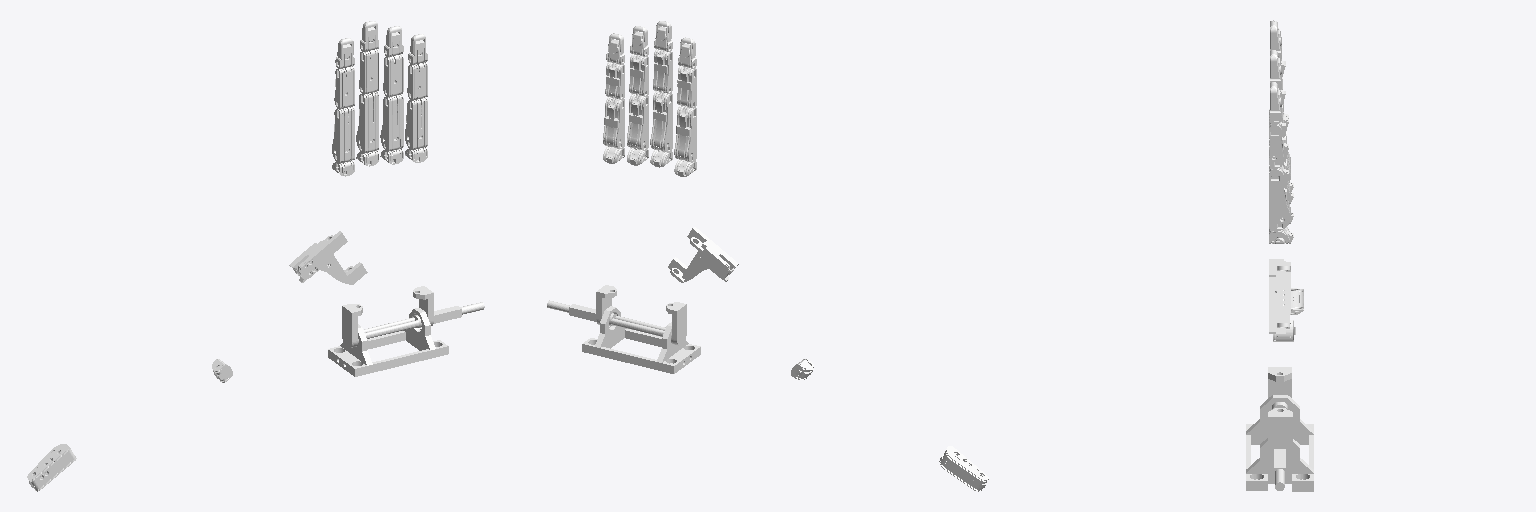
--- Render facts (derived) ---
Views: 3 orthographic renders of the robot side by side, from view 1: azimuth 30°, elevation 25°; view 2: azimuth 150°, elevation 25°; view 3: azimuth 270°, elevation 25°.
Model converted_robot with 97 links and 96 joints (37 revolute, 59 fixed), rooted at root, posed every joint at zero.
Visible links, largest first — view 1: wrist_1, wrist_2, thumb_base, middle_pp, ring_pp, thumb_mp, index_pp, pinky_pp, middle_mp, ring_mp, index_mp, pinky_mp; view 2: wrist_1, wrist_2, thumb_base, middle_pp, index_pp, thumb_mp, ring_pp, pinky_pp, middle_mp, index_mp, ring_mp, pinky_mp; view 3: wrist_1, wrist_2, thumb_base, pinky_pp, pinky_mp.
Boxes of the visible links, <box> form: wrist_1: <box>328,308,448,376</box>; wrist_2: <box>342,286,484,347</box>; thumb_base: <box>289,231,367,284</box>; middle_pp: <box>356,91,378,153</box>; ring_pp: <box>380,94,403,151</box>; thumb_mp: <box>27,444,76,491</box>; index_pp: <box>332,106,354,163</box>; pinky_pp: <box>405,97,427,149</box>; middle_mp: <box>359,49,378,94</box>; ring_mp: <box>383,54,403,97</box>; index_mp: <box>334,66,354,109</box>; pinky_mp: <box>407,62,427,100</box>; wrist_1: <box>582,306,700,373</box>; wrist_2: <box>547,285,686,345</box>; thumb_base: <box>668,227,738,282</box>; middle_pp: <box>650,91,672,152</box>; index_pp: <box>674,105,696,162</box>; thumb_mp: <box>939,446,988,491</box>; ring_pp: <box>627,94,648,150</box>; pinky_pp: <box>603,97,624,148</box>; middle_mp: <box>653,49,672,93</box>; index_mp: <box>677,66,696,108</box>; ring_mp: <box>629,54,648,96</box>; pinky_mp: <box>605,62,624,99</box>; wrist_1: <box>1246,395,1313,491</box>; wrist_2: <box>1268,367,1292,490</box>; thumb_base: <box>1269,259,1290,333</box>; pinky_pp: <box>1269,165,1290,230</box>; pinky_mp: <box>1269,121,1285,168</box>.
Bounding box of the posed robot: 0.3997 × 0.042 × 0.3333 m (x, y, z).
Meshes: 24 distinct files referenced, 22 mesh visuals loaded (22 binary STL); not drawn: 2 (reference not matched to a file when rendering).

The robot description file, URDF, robot "converted_robot":
<?xml version="1.0" ?>
<robot name="converted_robot">
   <link name="root">
      <inertial>
         <origin xyz="0.0 0.0 0.0" rpy="0.0 0.0 0.0"/>
         <mass value="0.0"/>
         <inertia ixx="0.0" iyy="0.0" izz="0.0" ixy="0" ixz="0" iyz="0"/>
      </inertial>
   </link>
   <link name="tower">
      <inertial>
         <origin xyz="-0.012935936040143856 -0.1250798428773428 -0.0001711974765966958" rpy="1.5378790315260968 -1.5027760115029016 -2.9935622097884105"/>
         <mass value="0.791434072813212"/>
         <inertia ixx="0.0014927212233772481" iyy="0.0014084035095714637" izz="0.0005242023751306965" ixy="0" ixz="0" iyz="0"/>
      </inertial>
      <visual name="tower">
         <origin xyz="-0.012935936040143856 -0.1250798428773428 -0.0001711974765966958" rpy="1.5378790315260975 -1.5027760115029016 -2.9935622097884114"/>
         <geometry>
            <mesh filename="package://viz/models/URDF_Simulation/converted_tower.stl"/>
         </geometry>
         <material name="white"/>
      </visual>
   </link>
   <link name="root2tower_fixed_jointbody">
      <inertial>
         <origin xyz="0.0 0.0 0.0" rpy="0.0 0.0 0.0"/>
         <mass value="0.001"/>
         <inertia ixx="1e-09" iyy="1e-09" izz="1e-09" ixy="0" ixz="0" iyz="0"/>
      </inertial>
   </link>
   <joint type="fixed" name="root2tower_fixed">
      <parent link="root"/>
      <child link="root2tower_fixed_jointbody"/>
      <origin xyz="-0.0132 0.0 0.017" rpy="1.5715926535897906 2.113124342173478e-09 3.1415900000008414"/>
   </joint>
   <joint type="fixed" name="root2tower_fixed_offset">
      <parent link="root2tower_fixed_jointbody"/>
      <child link="tower"/>
      <origin xyz="-0.0 -0.0 -0.0" rpy="0.0 0.0 0.0"/>
   </joint>
   <link name="wrist_1">
      <inertial>
         <origin xyz="-0.014332709818484647 -0.06084959605214876 0.00010921642133937277" rpy="1.5708004130834685 1.528474215972686e-05 1.5650097032208263"/>
         <mass value="0.058899626515319804"/>
         <inertia ixx="3.753569655681751e-05" iyy="3.3836482834552355e-05" izz="9.284974380360733e-06" ixy="0" ixz="0" iyz="0"/>
      </inertial>
      <visual name="wrist_3">
         <origin xyz="-0.014332709818484647 -0.06084959605214876 0.00010921642133937277" rpy="1.5708004130834687 1.5284742159948905e-05 1.5650097032208266"/>
         <geometry>
            <mesh filename="package://viz/models/URDF_Simulation/converted_wrist_3.stl"/>
         </geometry>
         <material name="white"/>
      </visual>
   </link>
   <link name="tower2wrist_1_fixed_jointbody">
      <inertial>
         <origin xyz="0.0 0.0 0.0" rpy="0.0 0.0 0.0"/>
         <mass value="0.001"/>
         <inertia ixx="1e-09" iyy="1e-09" izz="1e-09" ixy="0" ixz="0" iyz="0"/>
      </inertial>
   </link>
   <joint type="fixed" name="tower2wrist_1_fixed">
      <parent link="tower"/>
      <child link="tower2wrist_1_fixed_jointbody"/>
      <origin xyz="0.0 0.0 0.0" rpy="0.0 0.0 0.0"/>
   </joint>
   <joint type="fixed" name="tower2wrist_1_fixed_offset">
      <parent link="tower2wrist_1_fixed_jointbody"/>
      <child link="wrist_1"/>
      <origin xyz="-0.0 -0.0 -0.0" rpy="0.0 0.0 0.0"/>
   </joint>
   <link name="wrist_2">
      <inertial>
         <origin xyz="-0.011749586365455653 -0.03917818231353612 0.00011052945291615456" rpy="-1.8092865401767204 -1.5661853121132732 -1.2638218544209279"/>
         <mass value="0.020757970653264464"/>
         <inertia ixx="2.3183204340638643e-05" iyy="2.2130131511678158e-05" izz="1.4714793045715701e-06" ixy="0" ixz="0" iyz="0"/>
      </inertial>
      <visual name="wrist_1">
         <origin xyz="-0.04685505325225877 -0.034649420343556225 0.0002783448473589519" rpy="1.5707963267948966 0.0 2.987432783863472"/>
         <geometry>
            <mesh filename="package://viz/models/URDF_Simulation/converted_wrist_1.stl"/>
         </geometry>
         <material name="white"/>
      </visual>
      <visual name="wrist_2">
         <origin xyz="-0.004873884468205962 -0.04006517855744275 7.766139194779857e-05" rpy="1.3548527125878218 -1.5707870578414207 1.9119197405906991"/>
         <geometry>
            <mesh filename="package://viz/models/URDF_Simulation/converted_wrist_2.stl"/>
         </geometry>
         <material name="white"/>
      </visual>
   </link>
   <link name="wrist_jointbody">
      <inertial>
         <origin xyz="0.0 0.0 0.0" rpy="0.0 0.0 0.0"/>
         <mass value="0.001"/>
         <inertia ixx="1e-09" iyy="1e-09" izz="1e-09" ixy="0" ixz="0" iyz="0"/>
      </inertial>
   </link>
   <joint type="revolute" name="wrist">
      <parent link="wrist_1"/>
      <child link="wrist_jointbody"/>
      <origin xyz="0.0 -0.0463 0.0" rpy="0.0 0.0 0.0"/>
      <axis xyz="1.0 0.0 0.0"/>
      <limit lower="-2.27" upper="2.27" effort="100" velocity="100"/>
   </joint>
   <joint type="fixed" name="wrist_offset">
      <parent link="wrist_jointbody"/>
      <child link="wrist_2"/>
      <origin xyz="-0.0 0.0463 -0.0" rpy="0.0 0.0 0.0"/>
   </joint>
   <link name="palm">
      <inertial>
         <origin xyz="-0.009750183589572366 0.04021403488529142 -0.00039237105510929893" rpy="2.3172560848423656 -1.562874237700241 2.192255222809746"/>
         <mass value="0.16567872925570942"/>
         <inertia ixx="0.0002358825828115673" iyy="0.00017096319828277548" izz="6.854952483029862e-05" ixy="0" ixz="0" iyz="0"/>
      </inertial>
      <visual name="palm_tower">
         <origin xyz="-0.009750183589572366 0.04021403488529142 -0.00039237105510929893" rpy="2.3172560848423656 -1.562874237700241 2.192255222809746"/>
         <geometry>
            <mesh filename="package://viz/models/URDF_Simulation/converted_palm_tower.stl"/>
         </geometry>
         <material name="white"/>
      </visual>
   </link>
   <link name="wrist_22palm_fixed_jointbody">
      <inertial>
         <origin xyz="0.0 0.0 0.0" rpy="0.0 0.0 0.0"/>
         <mass value="0.001"/>
         <inertia ixx="1e-09" iyy="1e-09" izz="1e-09" ixy="0" ixz="0" iyz="0"/>
      </inertial>
   </link>
   <joint type="fixed" name="wrist_22palm_fixed">
      <parent link="wrist_2"/>
      <child link="wrist_22palm_fixed_jointbody"/>
      <origin xyz="0.0 0.0 0.0" rpy="0.0 0.0 0.0"/>
   </joint>
   <joint type="fixed" name="wrist_22palm_fixed_offset">
      <parent link="wrist_22palm_fixed_jointbody"/>
      <child link="palm"/>
      <origin xyz="-0.0 -0.0 -0.0" rpy="0.0 0.0 0.0"/>
   </joint>
   <!-- THUMB START -->
   <link name="thumb_base">
      <inertial>
         <origin xyz="-0.05388722858794558 -0.08972924545530461 0.0056400640968846715" rpy="1.1981321937913696 -1.4948979105066995 0.7661853183228415"/>
         <mass value="0.015400950262490496"/>
         <inertia ixx="4.057013831282678e-06" iyy="3.3189900464939896e-06" izz="1.0886313012479005e-06" ixy="0" ixz="0" iyz="0"/>
      </inertial>
      <visual name="thumb_base">
         <!-- <origin xyz="-0.05388722858794558 -0.08972924545530461 0.0056400640968846715" rpy="1.1981321937913676 -1.4948979105066995 0.7661853183228435"/> -->
         <origin xyz="0.01388722858794558 -0.02372924545530461 -0.0026400640968846715" rpy="1.1981321937913676 -1.4948979105066995 0.7661853183228435"/>
         <geometry>
            <mesh filename="package://viz/models/URDF_Simulation/converted_thumb_base.stl"/>
         </geometry>
         <material name="white"/>
      </visual>
   </link>
   <link name="root2thumb_base_jointbody">
      <inertial>
         <origin xyz="0.0 0.0 0.0" rpy="0.0 0.0 0.0"/>
         <mass value="0.001"/>
         <inertia ixx="1e-09" iyy="1e-09" izz="1e-09" ixy="0" ixz="0" iyz="0"/>
      </inertial>
   </link>
   <!-- THUMB -->
   <joint type="revolute" name="root2thumb_base">
      <parent link="palm"/>
      <child link="root2thumb_base_jointbody"/>
      <!-- <origin xyz="0.01810025051214078 0.00810024353395844 0.002000000000000001" rpy="0.0 0.0 1.5707999999999998"/> -->
      <origin xyz="0.01810025051214078 0.00810024353395844 0.002000000000000001" rpy="0.0 0.0 1.5707999999999998"/>
      <axis xyz="-0.872045190552692 0.48942536267945813 0.0"/>
      <limit lower="0.0" upper="2.27" effort="100" velocity="100"/>
   </joint>
   <joint type="fixed" name="root2thumb_base_offset">
      <parent link="root2thumb_base_jointbody"/>
      <child link="thumb_base"/>
      <!-- <origin xyz="0.0682 0.0663 -0.009" rpy="0.0 0.0 0.0"/> -->
      <origin xyz="0 0 0" rpy="0.0 0.0 0.0"/>
   </joint>
<!-- GSIIIIIIIIIIIIIIIIIIIIIIIIIIIIIIIIIIIIIIIIIIIIIIIIIIIIIIIIIIIIIIIIIIIIIIIIIIIIIIII -->

   <link name="thumb_um">
      <inertial>
         <!-- <origin xyz="0.06002974424873159 0.11906183356660797 0.0062186112018148216" rpy="-0.0012484400387758887 0.391076545340286 1.0465689521908192"/> -->
         <!-- <origin xyz="-0.06002974424873159 -0.02906183356660797 0.0062186112018148216" rpy="-0.0012484400387758887 0.391076545340286 1.0465689521908192"/> -->
         <origin xyz="-0.06002974424873159 -0.0 0.0062186112018148216" rpy="-0.0012484400387758887 0.391076545340286 1.0465689521908192"/>
         <mass value="0.0020561829545655487"/>
         <inertia ixx="5.3193394084926844e-08" iyy="4.4699706473833634e-08" izz="4.1958930900945313e-08" ixy="0" ixz="0" iyz="0"/>
      </inertial>
      <visual name="thumb_um">
         <origin xyz="0.0 -0.0 -0.0" rpy="-0.0012484400387758887 0.391076545340286 1.0465689521908192"/>
         <!-- <origin xyz="-0.06002974424873159 -0.04906183356660797 0.0062186112018148216" rpy="-0.0012484400387758887 0.391076545340286 1.0465689521908192"/> -->
         <geometry>
            <mesh filename="package://viz/models/URDF_Simulation/converted_thumb_um.stl"/>
         </geometry>
         <material name="white"/>
      </visual>
   </link>
   <link name="thumb_abd_jointbody">
      <inertial>
         <origin xyz="-0.06002974424873159 -0.001906183356660797 0.0062186112018148216" rpy="-0.0012484400387758887 0.391076545340286 1.0465689521908192"/>
         <!-- <origin xyz="0.0 0.0 0.0" rpy="0.0 0.0 0.0"/> -->
         <mass value="0.001"/>
         <inertia ixx="1e-09" iyy="1e-09" izz="1e-09" ixy="0" ixz="0" iyz="0"/>
      </inertial>
   </link>
   <joint type="revolute" name="thumb_abd">
      <parent link="thumb_base"/>
      <child link="thumb_abd_jointbody"/>
      <!-- <origin xyz="0.0 0.0 0.0" rpy="0.0 0.0 0.0"/> -->
      <origin xyz="-0.05696 -0.11383 0.0" rpy="0.0 0.0 0.0"/>
      <axis xyz="0.0 0.0 1.0"/>
      <limit lower="-0.523599" upper="0.523599" effort="100" velocity="100"/>
   </joint>
   <joint type="fixed" name="thumb_abd_offset">
      <parent link="thumb_abd_jointbody"/>
      <child link="thumb_um"/>
      <!-- <origin xyz="0.05696 0.11383 -0.0" rpy="0.0 0.0 0.0"/> -->
      <origin xyz="0 0 0" rpy="0.0 0.0 0.0"/>
   </joint>




   <!-- NOOOOOOOOOOOOOOOOOOOOOOOOOOOOOOOOOOOOOOOOOOOOOOOOOOOOOOOOO -->
   <link name="thumb_mp_virt">
      <inertial>
         <!-- <origin xyz="0.009525 -0.041187 0.083647" rpy="-0.22291598477092758 -1.2682876286119864 0.3020329839181935"/> -->
         <origin xyz="0.01388722858794558 -0.02372924545530461 -0.0026400640968846715" rpy="-0.22291598477092758 -1.2682876286119864 0.3020329839181935"/>
         <mass value="0.001"/>
         <inertia ixx="4e-10" iyy="4e-10" izz="3e-10" ixy="0" ixz="0" iyz="0"/>
      </inertial>
   </link>
   <link name="thumb_um2mp_virt_jointbody">
      <inertial>
         <origin xyz="0.01388722858794558 -0.02372924545530461 -0.0026400640968846715" rpy="0.0 0.0 0.0"/>
         <mass value="0.001"/>
         <inertia ixx="1e-09" iyy="1e-09" izz="1e-09" ixy="0" ixz="0" iyz="0"/>
      </inertial>
   </link>
   <joint type="revolute" name="thumb_um2mp_virt">
      <parent link="thumb_um"/>
      <child link="thumb_um2mp_virt_jointbody"/>
      <origin xyz="-0.0 -0.0 0.0" rpy="0.0 0.0 0.0"/>
      <!-- <origin xyz="-0.072947 -0.114166 0.008" rpy="0.0 0.0 0.0"/> -->
      <axis xyz="-0.872045190552692 0.48942536267945813 0.0"/>
      <limit lower="-0.16" upper="1.308" effort="100" velocity="100"/>
   </joint>
   <joint type="fixed" name="thumb_um2mp_virt_offset">
      <parent link="thumb_um2mp_virt_jointbody"/>
      <child link="thumb_mp_virt"/>
      <!-- <origin xyz="0.072947 0.114166 -0.008" rpy="0.0 0.0 0.0"/> -->
      <origin xyz="0.0 0.0 -0.0" rpy="0.0 0.0 0.0"/>
   </joint>

   <link name="thumb_mp">
      <inertial>
         <origin xyz="-0.07215929044573305 -0.14052795432320075 0.00551798779969882" rpy="2.9311721332498637 -1.5138717843315774 -1.881310598490373"/>
         <mass value="0.007559331420198066"/>
         <inertia ixx="9.573996733464855e-07" iyy="9.284932904903027e-07" izz="1.7221260520814514e-07" ixy="0" ixz="0" iyz="0"/>
      </inertial>
      <visual name="thumb_mp">
         <origin xyz="0.01388722858794558 -0.02372924545530461 -0.0026400640968846715" rpy="2.9311721332498664 -1.5138717843315772 -1.8813105984903749"/>
         <!-- <origin xyz="-0.07215929044573305 -0.14052795432320075 0.00551798779969882" rpy="2.9311721332498664 -1.5138717843315772 -1.8813105984903749"/> -->
         <geometry>
            <mesh filename="package://viz/models/URDF_Simulation/converted_thumb_mp.stl"/>
         </geometry>
         <material name="white"/>
      </visual>
   </link>
   <link name="thumb_um2mp_jointbody">
      <inertial>
         <origin xyz="0.0 0.0 0.0" rpy="0.0 0.0 0.0"/>
         <mass value="0.001"/>
         <inertia ixx="1e-09" iyy="1e-09" izz="1e-09" ixy="0" ixz="0" iyz="0"/>
      </inertial>
   </link>
   <joint type="revolute" name="thumb_um2mp">
      <parent link="thumb_mp_virt"/>
      <child link="thumb_um2mp_jointbody"/>
      <origin xyz="-0.062947 -0.124166 0.008" rpy="0.0 0.0 0.0"/>
      <axis xyz="-0.872045190552692 0.48942536267945813 0.0"/>
      <limit lower="-0.16" upper="1.308" effort="100" velocity="100"/>
   </joint>
   <joint type="fixed" name="thumb_um2mp_offset">
      <parent link="thumb_um2mp_jointbody"/>
      <child link="thumb_mp"/>
      <origin xyz="0 0 0" rpy="0.0 0.0 0.0"/>
      <!-- <origin xyz="0.062947 0.124166 -0.008" rpy="0.0 0.0 0.0"/> -->
   </joint>




   <!-- THUMB END -->
   <link name="index_um_virt">
      <inertial>
         <origin xyz="0.0 0.0 0.0" rpy="0.0 0.0 0.0"/>
         <mass value="0.001"/>
         <inertia ixx="4e-10" iyy="4e-10" izz="3e-10" ixy="0" ixz="0" iyz="0"/>
      </inertial>
   </link>
   <link name="index_abd_virt_jointbody">
      <inertial>
         <origin xyz="0.0 0.0 0.0" rpy="0.0 0.0 0.0"/>
         <mass value="0.001"/>
         <inertia ixx="1e-09" iyy="1e-09" izz="1e-09" ixy="0" ixz="0" iyz="0"/>
      </inertial>
   </link>
   <joint type="revolute" name="index_abd_virt">
      <parent link="palm"/>
      <child link="index_abd_virt_jointbody"/>
      <origin xyz="0.0250405 0.0852 0.0" rpy="-1.5707963267948966 1.5707963267948966 0.0"/>
      <axis xyz="1.0 0.0 0.0"/>
      <limit lower="-0.264" upper="0.264" effort="100" velocity="100"/>
   </joint>
   <joint type="fixed" name="index_abd_virt_offset">
      <parent link="index_abd_virt_jointbody"/>
      <child link="index_um_virt"/>
      <origin xyz="-0.0 -0.0 -0.0" rpy="0.0 0.0 0.0"/>
   </joint>
   <link name="index_um">
      <inertial>
         <origin xyz="0.0003158098365906876 -0.00022882513673609314 -0.0036213650800712305" rpy="3.11344183213456 -1.2906456267839208 -3.102620114783569"/>
         <mass value="0.0017045161564725113"/>
         <inertia ixx="4.089294671130922e-08" iyy="3.323975046971373e-08" izz="2.9482536116204133e-08" ixy="0" ixz="0" iyz="0"/>
      </inertial>
      <visual name="index_um">
         <origin xyz="0.0003158098365906876 -0.00022882513673609314 -0.0036213650800712305" rpy="3.11344183213456 -1.2906456267839206 -3.102620114783569"/>
         <geometry>
            <mesh filename="package://viz/models/URDF_Simulation/converted_index_um.stl"/>
         </geometry>
         <material name="white"/>
      </visual>
   </link>
   <link name="index_abd_jointbody">
      <inertial>
         <origin xyz="0.0 0.0 0.0" rpy="0.0 0.0 0.0"/>
         <mass value="0.001"/>
         <inertia ixx="1e-09" iyy="1e-09" izz="1e-09" ixy="0" ixz="0" iyz="0"/>
      </inertial>
   </link>
   <joint type="revolute" name="index_abd">
      <parent link="index_um_virt"/>
      <child link="index_abd_jointbody"/>
      <origin xyz="0.0 0.0 0.018" rpy="0.0 0.0 0.0"/>
      <axis xyz="1.0 0.0 0.0"/>
      <limit lower="-0.264" upper="0.264" effort="100" velocity="100"/>
   </joint>
   <joint type="fixed" name="index_abd_offset">
      <parent link="index_abd_jointbody"/>
      <child link="index_um"/>
      <origin xyz="-0.0 -0.0 -0.0" rpy="0.0 0.0 0.0"/>
   </joint>
   <link name="index_pp_virt">
      <inertial>
         <origin xyz="0.0 0.0 0.0" rpy="0.0 0.0 0.0"/>
         <mass value="0.001"/>
         <inertia ixx="4e-10" iyy="4e-10" izz="3e-10" ixy="0" ixz="0" iyz="0"/>
      </inertial>
   </link>
   <link name="root2index_pp_virt_jointbody">
      <inertial>
         <origin xyz="0.0 0.0 0.0" rpy="0.0 0.0 0.0"/>
         <mass value="0.001"/>
         <inertia ixx="1e-09" iyy="1e-09" izz="1e-09" ixy="0" ixz="0" iyz="0"/>
      </inertial>
   </link>
   <joint type="revolute" name="root2index_pp_virt">
      <parent link="index_um"/>
      <child link="root2index_pp_virt_jointbody"/>
      <origin xyz="0.00270000102 5.9952065978308155e-19 -0.00743303472" rpy="0.0 0.0 -1.5707963267948963"/>
      <axis xyz="1.0 0.0 0.0"/>
      <limit lower="-0.157" upper="0.829" effort="100" velocity="100"/>
   </joint>
   <joint type="fixed" name="root2index_pp_virt_offset">
      <parent link="root2index_pp_virt_jointbody"/>
      <child link="index_pp_virt"/>
      <origin xyz="-0.0 -0.00270000102 -0.0" rpy="0.0 0.0 0.0"/>
   </joint>
   <link name="index_pp">
      <inertial>
         <origin xyz="0.0001596722768568773 0.0010995555377848291 0.01288169966540817" rpy="-0.0005635947558751964 0.04346039485505382 1.5731856208599835"/>
         <mass value="0.006934011983539235"/>
         <inertia ixx="1.1618492939118344e-06" iyy="1.1338221765005137e-06" izz="1.5329642762575548e-07" ixy="0" ixz="0" iyz="0"/>
      </inertial>
      <visual name="index_pp">
         <origin xyz="0.0001596722768568773 0.0010995555377848291 0.01288169966540817" rpy="-0.0005635947558753074 0.0434603948550536 1.5731856208599835"/>
         <geometry>
            <mesh filename="package://viz/models/URDF_Simulation/converted_index_pp.stl"/>
         </geometry>
         <material name="white"/>
      </visual>
   </link>
   <link name="root2index_pp_jointbody">
      <inertial>
         <origin xyz="0.0 0.0 0.0" rpy="0.0 0.0 0.0"/>
         <mass value="0.001"/>
         <inertia ixx="1e-09" iyy="1e-09" izz="1e-09" ixy="0" ixz="0" iyz="0"/>
      </inertial>
   </link>
   <joint type="revolute" name="root2index_pp">
      <parent link="index_pp_virt"/>
      <child link="root2index_pp_jointbody"/>
      <origin xyz="0.0 0.00250000102 0.018" rpy="0.0 0.0 0.0"/>
      <axis xyz="1.0 0.0 0.0"/>
      <limit lower="-0.157" upper="0.829" effort="100" velocity="100"/>
   </joint>
   <joint type="fixed" name="root2index_pp_offset">
      <parent link="root2index_pp_jointbody"/>
      <child link="index_pp"/>
      <origin xyz="-0.0 -0.00250000102 -0.0" rpy="0.0 0.0 0.0"/>
   </joint>
   <link name="index_pp_sens">
      <inertial>
         <origin xyz="0.0 -0.004 0.018" rpy="0.0 0.0 0.0"/>
         <mass value="0.0"/>
         <inertia ixx="0.0" iyy="0.0" izz="0.0" ixy="0" ixz="0" iyz="0"/>
      </inertial>
   </link>
   <link name="index_pp2index_pp_sens_fixed_jointbody">
      <inertial>
         <origin xyz="0.0 0.0 0.0" rpy="0.0 0.0 0.0"/>
         <mass value="0.001"/>
         <inertia ixx="1e-09" iyy="1e-09" izz="1e-09" ixy="0" ixz="0" iyz="0"/>
      </inertial>
   </link>
   <joint type="fixed" name="index_pp2index_pp_sens_fixed">
      <parent link="index_pp"/>
      <child link="index_pp2index_pp_sens_fixed_jointbody"/>
      <origin xyz="0.0 -0.004 0.018" rpy="0.0 0.0 0.0"/>
   </joint>
   <joint type="fixed" name="index_pp2index_pp_sens_fixed_offset">
      <parent link="index_pp2index_pp_sens_fixed_jointbody"/>
      <child link="index_pp_sens"/>
      <origin xyz="-0.0 -0.0 -0.0" rpy="0.0 0.0 0.0"/>
   </joint>
   <link name="index_mp_virt">
      <inertial>
         <origin xyz="0.0 0.0 0.0" rpy="0.0 0.0 0.0"/>
         <mass value="0.001"/>
         <inertia ixx="4e-10" iyy="4e-10" izz="3e-10" ixy="0" ixz="0" iyz="0"/>
      </inertial>
   </link>
   <link name="index_pp2mp_virt_jointbody">
      <inertial>
         <origin xyz="0.0 0.0 0.0" rpy="0.0 0.0 0.0"/>
         <mass value="0.001"/>
         <inertia ixx="1e-09" iyy="1e-09" izz="1e-09" ixy="0" ixz="0" iyz="0"/>
      </inertial>
   </link>
   <joint type="revolute" name="index_pp2mp_virt">
      <parent link="index_pp"/>
      <child link="index_pp2mp_virt_jointbody"/>
      <origin xyz="0.0 0.00370000102 0.03101612481" rpy="0.0 0.0 0.0"/>
      <axis xyz="1.0 0.0 0.0"/>
      <limit lower="-0.131" upper="0.96" effort="100" velocity="100"/>
   </joint>
   <joint type="fixed" name="index_pp2mp_virt_offset">
      <parent link="index_pp2mp_virt_jointbody"/>
      <child link="index_mp_virt"/>
      <origin xyz="-0.0 -0.00370000102 -0.0" rpy="0.0 0.0 0.0"/>
   </joint>
   <link name="index_mp">
      <inertial>
         <origin xyz="0.00011615953600365228 0.002416765310794026 0.01109535507776531" rpy="0.005169070242558416 0.005498569028424383 1.568902720116945"/>
         <mass value="0.00391743874952473"/>
         <inertia ixx="3.710686435522325e-07" iyy="3.400719694509783e-07" izz="7.116706680564789e-08" ixy="0" ixz="0" iyz="0"/>
      </inertial>
      <visual name="index_mp">
         <origin xyz="0.00011615953600365228 0.002416765310794026 0.01109535507776531" rpy="0.005169070242558416 0.005498569028424383 1.568902720116945"/>
         <geometry>
            <mesh filename="package://viz/models/URDF_Simulation/converted_index_mp.stl"/>
         </geometry>
         <material name="white"/>
      </visual>
   </link>
   <link name="index_pp2mp_jointbody">
      <inertial>
         <origin xyz="0.0 0.0 0.0" rpy="0.0 0.0 0.0"/>
         <mass value="0.001"/>
         <inertia ixx="1e-09" iyy="1e-09" izz="1e-09" ixy="0" ixz="0" iyz="0"/>
      </inertial>
   </link>
   <joint type="revolute" name="index_pp2mp">
      <parent link="index_mp_virt"/>
      <child link="index_pp2mp_jointbody"/>
      <origin xyz="0.0 0.00350000102 0.012" rpy="0.0 0.0 0.0"/>
      <axis xyz="1.0 0.0 0.0"/>
      <limit lower="-0.131" upper="0.96" effort="100" velocity="100"/>
   </joint>
   <joint type="fixed" name="index_pp2mp_offset">
      <parent link="index_pp2mp_jointbody"/>
      <child link="index_mp"/>
      <origin xyz="-0.0 -0.00350000102 -0.0" rpy="0.0 0.0 0.0"/>
   </joint>
   <link name="index_dp_virt">
      <inertial>
         <origin xyz="0.0 0.0 0.0" rpy="0.0 0.0 0.0"/>
         <mass value="0.001"/>
         <inertia ixx="4e-10" iyy="4e-10" izz="3e-10" ixy="0" ixz="0" iyz="0"/>
      </inertial>
   </link>
   <link name="index_mp2dp_virt_jointbody">
      <inertial>
         <origin xyz="0.0 0.0 0.0" rpy="0.0 0.0 0.0"/>
         <mass value="0.001"/>
         <inertia ixx="1e-09" iyy="1e-09" izz="1e-09" ixy="0" ixz="0" iyz="0"/>
      </inertial>
   </link>
   <joint type="revolute" name="index_mp2dp_virt">
      <parent link="index_mp"/>
      <child link="index_mp2dp_virt_jointbody"/>
      <origin xyz="0.0 0.00370000102 0.0235" rpy="0.0 0.0 0.0"/>
      <axis xyz="1.0 0.0 0.0"/>
      <limit lower="-0.093" upper="0.682" effort="100" velocity="100"/>
   </joint>
   <joint type="fixed" name="index_mp2dp_virt_offset">
      <parent link="index_mp2dp_virt_jointbody"/>
      <child link="index_dp_virt"/>
      <origin xyz="-0.0 -0.00370000102 -0.0" rpy="0.0 0.0 0.0"/>
   </joint>
   <link name="index_dp">
      <inertial>
         <origin xyz="0.00011951811090689032 0.003120678557622198 0.007573116228122234" rpy="-0.001893780008492163 0.05085216250260771 1.5852087171365512"/>
         <mass value="0.0021639273972605794"/>
         <inertia ixx="1.0745931609543126e-07" iyy="9.222697287325353e-08" izz="2.9490220566203e-08" ixy="0" ixz="0" iyz="0"/>
      </inertial>
      <visual name="index_dp">
         <origin xyz="0.00011951811090689032 0.003120678557622198 0.007573116228122234" rpy="-0.001893780008492163 0.05085216250260771 1.5852087171365514"/>
         <geometry>
            <mesh filename="package://viz/models/URDF_Simulation/converted_index_dp.stl"/>
         </geometry>
         <material name="white"/>
      </visual>
   </link>
   <link name="index_mp2dp_jointbody">
      <inertial>
         <origin xyz="0.0 0.0 0.0" rpy="0.0 0.0 0.0"/>
         <mass value="0.001"/>
         <inertia ixx="1e-09" iyy="1e-09" izz="1e-09" ixy="0" ixz="0" iyz="0"/>
      </inertial>
   </link>
   <joint type="revolute" name="index_mp2dp">
      <parent link="index_dp_virt"/>
      <child link="index_mp2dp_jointbody"/>
      <origin xyz="0.0 0.00350000102 0.009" rpy="0.0 0.0 0.0"/>
      <axis xyz="1.0 0.0 0.0"/>
      <limit lower="-0.093" upper="0.682" effort="100" velocity="100"/>
   </joint>
   <joint type="fixed" name="index_mp2dp_offset">
      <parent link="index_mp2dp_jointbody"/>
      <child link="index_dp"/>
      <origin xyz="-0.0 -0.00350000102 -0.0" rpy="0.0 0.0 0.0"/>
   </joint>
   <link name="index_fingertip">
      <inertial>
         <origin xyz="0.0 0.0 0.01" rpy="0.0 0.0 0.0"/>
         <mass value="0.0"/>
         <inertia ixx="0.0" iyy="0.0" izz="0.0" ixy="0" ixz="0" iyz="0"/>
      </inertial>
   </link>
   <link name="index_dp2index_fingertip_fixed_jointbody">
      <inertial>
         <origin xyz="0.0 0.0 0.0" rpy="0.0 0.0 0.0"/>
         <mass value="0.001"/>
         <inertia ixx="1e-09" iyy="1e-09" izz="1e-09" ixy="0" ixz="0" iyz="0"/>
      </inertial>
   </link>
   <joint type="fixed" name="index_dp2index_fingertip_fixed">
      <parent link="index_dp"/>
      <child link="index_dp2index_fingertip_fixed_jointbody"/>
      <origin xyz="0.0 0.0 0.01" rpy="0.0 0.0 0.0"/>
   </joint>
   <joint type="fixed" name="index_dp2index_fingertip_fixed_offset">
      <parent link="index_dp2index_fingertip_fixed_jointbody"/>
      <child link="index_fingertip"/>
      <origin xyz="-0.0 -0.0 -0.0" rpy="0.0 0.0 0.0"/>
   </joint>
   <link name="middle_um_virt">
      <inertial>
         <origin xyz="0.0 0.0 0.0" rpy="0.0 0.0 0.0"/>
         <mass value="0.001"/>
         <inertia ixx="4e-10" iyy="4e-10" izz="3e-10" ixy="0" ixz="0" iyz="0"/>
      </inertial>
   </link>
   <link name="middle_abd_virt_jointbody">
      <inertial>
         <origin xyz="0.0 0.0 0.0" rpy="0.0 0.0 0.0"/>
         <mass value="0.001"/>
         <inertia ixx="1e-09" iyy="1e-09" izz="1e-09" ixy="0" ixz="0" iyz="0"/>
      </inertial>
   </link>
   <joint type="revolute" name="middle_abd_virt">
      <parent link="palm"/>
      <child link="middle_abd_virt_jointbody"/>
      <origin xyz="0.0036 0.0886 0.0" rpy="-1.5707963267948966 1.5707963267948966 0.0"/>
      <axis xyz="1.0 0.0 0.0"/>
      <limit lower="-0.264" upper="0.264" effort="100" velocity="100"/>
   </joint>
   <joint type="fixed" name="middle_abd_virt_offset">
      <parent link="middle_abd_virt_jointbody"/>
      <child link="middle_um_virt"/>
      <origin xyz="-0.0 -0.0 -0.0" rpy="0.0 0.0 0.0"/>
   </joint>
   <link name="middle_um">
      <inertial>
         <origin xyz="0.0003169177085226183 -4.3580464142454146e-05 -0.00358903262860973" rpy="3.1142767042476764 -1.2906066346792464 -3.101151560580364"/>
         <mass value="0.0017047365062490877"/>
         <inertia ixx="4.089764222360987e-08" iyy="3.324524824350021e-08" izz="2.9498620771363934e-08" ixy="0" ixz="0" iyz="0"/>
      </inertial>
      <visual name="middle_um">
         <origin xyz="0.0003169177085226183 -4.3580464142454146e-05 -0.00358903262860973" rpy="3.1142767042476764 -1.2906066346792464 -3.101151560580364"/>
         <geometry>
            <mesh filename="package://viz/models/URDF_Simulation/converted_middle_um.stl"/>
         </geometry>
         <material name="white"/>
      </visual>
   </link>
   <link name="middle_abd_jointbody">
      <inertial>
         <origin xyz="0.0 0.0 0.0" rpy="0.0 0.0 0.0"/>
         <mass value="0.001"/>
         <inertia ixx="1e-09" iyy="1e-09" izz="1e-09" ixy="0" ixz="0" iyz="0"/>
      </inertial>
   </link>
   <joint type="revolute" name="middle_abd">
      <parent link="middle_um_virt"/>
      <child link="middle_abd_jointbody"/>
      <origin xyz="0.0 0.0 0.018" rpy="0.0 0.0 0.0"/>
      <axis xyz="1.0 0.0 0.0"/>
      <limit lower="-0.264" upper="0.264" effort="100" velocity="100"/>
   </joint>
   <joint type="fixed" name="middle_abd_offset">
      <parent link="middle_abd_jointbody"/>
      <child link="middle_um"/>
      <origin xyz="-0.0 -0.0 -0.0" rpy="0.0 0.0 0.0"/>
   </joint>
   <link name="middle_pp_virt">
      <inertial>
         <origin xyz="0.0 0.0 0.0" rpy="0.0 0.0 0.0"/>
         <mass value="0.001"/>
         <inertia ixx="4e-10" iyy="4e-10" izz="3e-10" ixy="0" ixz="0" iyz="0"/>
      </inertial>
   </link>
   <link name="root2middle_pp_virt_jointbody">
      <inertial>
         <origin xyz="0.0 0.0 0.0" rpy="0.0 0.0 0.0"/>
         <mass value="0.001"/>
         <inertia ixx="1e-09" iyy="1e-09" izz="1e-09" ixy="0" ixz="0" iyz="0"/>
      </inertial>
   </link>
   <joint type="revolute" name="root2middle_pp_virt">
      <parent link="middle_um"/>
      <child link="root2middle_pp_virt_jointbody"/>
      <origin xyz="0.002700001023199999 5.99520660493624e-19 -0.00743303472" rpy="0.0 0.0 -1.5707963267948963"/>
      <axis xyz="1.0 0.0 0.0"/>
      <limit lower="-0.157" upper="0.829" effort="100" velocity="100"/>
   </joint>
   <joint type="fixed" name="root2middle_pp_virt_offset">
      <parent link="root2middle_pp_virt_jointbody"/>
      <child link="middle_pp_virt"/>
      <origin xyz="-0.0 -0.002700001023199999 -0.0" rpy="0.0 0.0 0.0"/>
   </joint>
   <link name="middle_pp">
      <inertial>
         <origin xyz="-2.677702921494884e-05 0.0012083795875931697 0.014736324701324952" rpy="-0.0005735052637568794 0.04126377469973974 1.57485854430987"/>
         <mass value="0.007431440532107334"/>
         <inertia ixx="1.4952081907729184e-06" iyy="1.4626277055074752e-06" izz="1.6114556634419006e-07" ixy="0" ixz="0" iyz="0"/>
      </inertial>
      <visual name="middle_pp">
         <origin xyz="-2.677702921494884e-05 0.0012083795875931697 0.014736324701324952" rpy="-0.0005735052637568794 0.041263774699739963 1.57485854430987"/>
         <geometry>
            <mesh filename="package://viz/models/URDF_Simulation/converted_middle_pp.stl"/>
         </geometry>
         <material name="white"/>
      </visual>
   </link>
   <link name="root2middle_pp_jointbody">
      <inertial>
         <origin xyz="0.0 0.0 0.0" rpy="0.0 0.0 0.0"/>
         <mass value="0.001"/>
         <inertia ixx="1e-09" iyy="1e-09" izz="1e-09" ixy="0" ixz="0" iyz="0"/>
      </inertial>
   </link>
   <joint type="revolute" name="root2middle_pp">
      <parent link="middle_pp_virt"/>
      <child link="root2middle_pp_jointbody"/>
      <origin xyz="0.0 0.002500001023199999 0.018" rpy="0.0 0.0 0.0"/>
      <axis xyz="1.0 0.0 0.0"/>
      <limit lower="-0.157" upper="0.829" effort="100" velocity="100"/>
   </joint>
   <joint type="fixed" name="root2middle_pp_offset">
      <parent link="root2middle_pp_jointbody"/>
      <child link="middle_pp"/>
      <origin xyz="-0.0 -0.002500001023199999 -0.0" rpy="0.0 0.0 0.0"/>
   </joint>
   <link name="middle_pp_sens">
      <inertial>
         <origin xyz="0.0 -0.004 0.022" rpy="0.0 0.0 0.0"/>
         <mass value="0.0"/>
         <inertia ixx="0.0" iyy="0.0" izz="0.0" ixy="0" ixz="0" iyz="0"/>
      </inertial>
   </link>
   <link name="middle_pp2middle_pp_sens_fixed_jointbody">
      <inertial>
         <origin xyz="0.0 0.0 0.0" rpy="0.0 0.0 0.0"/>
         <mass value="0.001"/>
         <inertia ixx="1e-09" iyy="1e-09" izz="1e-09" ixy="0" ixz="0" iyz="0"/>
      </inertial>
   </link>
   <joint type="fixed" name="middle_pp2middle_pp_sens_fixed">
      <parent link="middle_pp"/>
      <child link="middle_pp2middle_pp_sens_fixed_jointbody"/>
      <origin xyz="0.0 -0.004 0.022" rpy="0.0 0.0 0.0"/>
   </joint>
   <joint type="fixed" name="middle_pp2middle_pp_sens_fixed_offset">
      <parent link="middle_pp2middle_pp_sens_fixed_jointbody"/>
      <child link="middle_pp_sens"/>
      <origin xyz="-0.0 -0.0 -0.0" rpy="0.0 0.0 0.0"/>
   </joint>
   <link name="middle_mp_virt">
      <inertial>
         <origin xyz="0.0 0.0 0.0" rpy="0.0 0.0 0.0"/>
         <mass value="0.001"/>
         <inertia ixx="4e-10" iyy="4e-10" izz="3e-10" ixy="0" ixz="0" iyz="0"/>
      </inertial>
   </link>
   <link name="middle_pp2mp_virt_jointbody">
      <inertial>
         <origin xyz="0.0 0.0 0.0" rpy="0.0 0.0 0.0"/>
         <mass value="0.001"/>
         <inertia ixx="1e-09" iyy="1e-09" izz="1e-09" ixy="0" ixz="0" iyz="0"/>
      </inertial>
   </link>
   <joint type="revolute" name="middle_pp2mp_virt">
      <parent link="middle_pp"/>
      <child link="middle_pp2mp_virt_jointbody"/>
      <origin xyz="0.0 0.0037000000000999996 0.03501428277" rpy="0.0 0.0 0.0"/>
      <axis xyz="1.0 0.0 0.0"/>
      <limit lower="-0.131" upper="0.96" effort="100" velocity="100"/>
   </joint>
   <joint type="fixed" name="middle_pp2mp_virt_offset">
      <parent link="middle_pp2mp_virt_jointbody"/>
      <child link="middle_mp_virt"/>
      <origin xyz="-0.0 -0.0037000000000999996 -0.0" rpy="0.0 0.0 0.0"/>
   </joint>
   <link name="middle_mp">
      <inertial>
         <origin xyz="-7.28956068113046e-05 0.002462634567765748 0.01217139362029477" rpy="0.004902958340904706 0.004923370489530621 1.569477804197481"/>
         <mass value="0.004122015435614137"/>
         <inertia ixx="4.381415089977954e-07" iyy="4.050525829693079e-07" izz="7.452990013142263e-08" ixy="0" ixz="0" iyz="0"/>
      </inertial>
      <visual name="middle_mp">
         <origin xyz="-7.28956068113046e-05 0.002462634567765748 0.01217139362029477" rpy="0.004902958340904706 0.004923370489530621 1.569477804197481"/>
         <geometry>
            <mesh filename="package://viz/models/URDF_Simulation/converted_middle_mp.stl"/>
         </geometry>
         <material name="white"/>
      </visual>
   </link>
   <link name="middle_pp2mp_jointbody">
      <inertial>
         <origin xyz="0.0 0.0 0.0" rpy="0.0 0.0 0.0"/>
         <mass value="0.001"/>
         <inertia ixx="1e-09" iyy="1e-09" izz="1e-09" ixy="0" ixz="0" iyz="0"/>
      </inertial>
   </link>
   <joint type="revolute" name="middle_pp2mp">
      <parent link="middle_mp_virt"/>
      <child link="middle_pp2mp_jointbody"/>
      <origin xyz="0.0 0.0035000000000999995 0.012" rpy="0.0 0.0 0.0"/>
      <axis xyz="1.0 0.0 0.0"/>
      <limit lower="-0.131" upper="0.96" effort="100" velocity="100"/>
   </joint>
   <joint type="fixed" name="middle_pp2mp_offset">
      <parent link="middle_pp2mp_jointbody"/>
      <child link="middle_mp"/>
      <origin xyz="-0.0 -0.0035000000000999995 -0.0" rpy="0.0 0.0 0.0"/>
   </joint>
   <link name="middle_dp_virt">
      <inertial>
         <origin xyz="0.0 0.0 0.0" rpy="0.0 0.0 0.0"/>
         <mass value="0.001"/>
         <inertia ixx="4e-10" iyy="4e-10" izz="3e-10" ixy="0" ixz="0" iyz="0"/>
      </inertial>
   </link>
   <link name="middle_mp2dp_virt_jointbody">
      <inertial>
         <origin xyz="0.0 0.0 0.0" rpy="0.0 0.0 0.0"/>
         <mass value="0.001"/>
         <inertia ixx="1e-09" iyy="1e-09" izz="1e-09" ixy="0" ixz="0" iyz="0"/>
      </inertial>
   </link>
   <joint type="revolute" name="middle_mp2dp_virt">
      <parent link="middle_mp"/>
      <child link="middle_mp2dp_virt_jointbody"/>
      <origin xyz="0.0 0.0037000000000999996 0.0255" rpy="0.0 0.0 0.0"/>
      <axis xyz="1.0 0.0 0.0"/>
      <limit lower="-0.093" upper="0.682" effort="100" velocity="100"/>
   </joint>
   <joint type="fixed" name="middle_mp2dp_virt_offset">
      <parent link="middle_mp2dp_virt_jointbody"/>
      <child link="middle_dp_virt"/>
      <origin xyz="-0.0 -0.0037000000000999996 -0.0" rpy="0.0 0.0 0.0"/>
   </joint>
   <link name="middle_dp">
      <inertial>
         <origin xyz="3.0280177180663673e-05 0.0031179204392796566 0.0076814262845085746" rpy="0.00823787222220096 0.050673311372765095 1.5580538179925818"/>
         <mass value="0.002165187096269976"/>
         <inertia ixx="1.0756444680126282e-07" iyy="9.22710567268227e-08" izz="2.9564221225540638e-08" ixy="0" ixz="0" iyz="0"/>
      </inertial>
      <visual name="middle_dp">
         <origin xyz="3.0280177180663673e-05 0.0031179204392796566 0.0076814262845085746" rpy="0.00823787222220096 0.050673311372765095 1.5580538179925818"/>
         <geometry>
            <mesh filename="package://viz/models/URDF_Simulation/converted_middle_dp.stl"/>
         </geometry>
         <material name="white"/>
      </visual>
   </link>
   <link name="middle_mp2dp_jointbody">
      <inertial>
         <origin xyz="0.0 0.0 0.0" rpy="0.0 0.0 0.0"/>
         <mass value="0.001"/>
         <inertia ixx="1e-09" iyy="1e-09" izz="1e-09" ixy="0" ixz="0" iyz="0"/>
      </inertial>
   </link>
   <joint type="revolute" name="middle_mp2dp">
      <parent link="middle_dp_virt"/>
      <child link="middle_mp2dp_jointbody"/>
      <origin xyz="0.0 0.0035000000000999995 0.009" rpy="0.0 0.0 0.0"/>
      <axis xyz="1.0 0.0 0.0"/>
      <limit lower="-0.093" upper="0.682" effort="100" velocity="100"/>
   </joint>
   <joint type="fixed" name="middle_mp2dp_offset">
      <parent link="middle_mp2dp_jointbody"/>
      <child link="middle_dp"/>
      <origin xyz="-0.0 -0.0035000000000999995 -0.0" rpy="0.0 0.0 0.0"/>
   </joint>
   <link name="middle_fingertip">
      <inertial>
         <origin xyz="0.0 0.0 0.01" rpy="0.0 0.0 0.0"/>
         <mass value="0.0"/>
         <inertia ixx="0.0" iyy="0.0" izz="0.0" ixy="0" ixz="0" iyz="0"/>
      </inertial>
   </link>
   <link name="middle_dp2middle_fingertip_fixed_jointbody">
      <inertial>
         <origin xyz="0.0 0.0 0.0" rpy="0.0 0.0 0.0"/>
         <mass value="0.001"/>
         <inertia ixx="1e-09" iyy="1e-09" izz="1e-09" ixy="0" ixz="0" iyz="0"/>
      </inertial>
   </link>
   <joint type="fixed" name="middle_dp2middle_fingertip_fixed">
      <parent link="middle_dp"/>
      <child link="middle_dp2middle_fingertip_fixed_jointbody"/>
      <origin xyz="0.0 0.0 0.01" rpy="0.0 0.0 0.0"/>
   </joint>
   <joint type="fixed" name="middle_dp2middle_fingertip_fixed_offset">
      <parent link="middle_dp2middle_fingertip_fixed_jointbody"/>
      <child link="middle_fingertip"/>
      <origin xyz="-0.0 -0.0 -0.0" rpy="0.0 0.0 0.0"/>
   </joint>
   <link name="ring_um_virt">
      <inertial>
         <origin xyz="0.0 0.0 0.0" rpy="0.0 0.0 0.0"/>
         <mass value="0.001"/>
         <inertia ixx="4e-10" iyy="4e-10" izz="3e-10" ixy="0" ixz="0" iyz="0"/>
      </inertial>
   </link>
   <link name="ring_abd_virt_jointbody">
      <inertial>
         <origin xyz="0.0 0.0 0.0" rpy="0.0 0.0 0.0"/>
         <mass value="0.001"/>
         <inertia ixx="1e-09" iyy="1e-09" izz="1e-09" ixy="0" ixz="0" iyz="0"/>
      </inertial>
   </link>
   <joint type="revolute" name="ring_abd_virt">
      <parent link="palm"/>
      <child link="ring_abd_virt_jointbody"/>
      <origin xyz="-0.017817999999999997 0.0852 0.0" rpy="-1.5707963267948966 1.5707963267948966 0.0"/>
      <axis xyz="1.0 0.0 0.0"/>
      <limit lower="-0.264" upper="0.264" effort="100" velocity="100"/>
   </joint>
   <joint type="fixed" name="ring_abd_virt_offset">
      <parent link="ring_abd_virt_jointbody"/>
      <child link="ring_um_virt"/>
      <origin xyz="-0.0 -0.0 -0.0" rpy="0.0 0.0 0.0"/>
   </joint>
   <link name="ring_um">
      <inertial>
         <origin xyz="0.00031526315659068625 -4.483507673610013e-05 -0.0035895413100712256" rpy="3.1134418321345594 -1.2906456267839208 -3.1026201147835684"/>
         <mass value="0.0017045161564725113"/>
         <inertia ixx="4.089294671130922e-08" iyy="3.323975046971373e-08" izz="2.9482536116204133e-08" ixy="0" ixz="0" iyz="0"/>
      </inertial>
      <visual name="ring_um">
         <origin xyz="0.00031526315659068625 -4.483507673610013e-05 -0.0035895413100712256" rpy="3.11344183213456 -1.2906456267839206 -3.102620114783569"/>
         <geometry>
            <mesh filename="package://viz/models/URDF_Simulation/converted_ring_um.stl"/>
         </geometry>
         <material name="white"/>
      </visual>
   </link>
   <link name="ring_abd_jointbody">
      <inertial>
         <origin xyz="0.0 0.0 0.0" rpy="0.0 0.0 0.0"/>
         <mass value="0.001"/>
         <inertia ixx="1e-09" iyy="1e-09" izz="1e-09" ixy="0" ixz="0" iyz="0"/>
      </inertial>
   </link>
   <joint type="revolute" name="ring_abd">
      <parent link="ring_um_virt"/>
      <child link="ring_abd_jointbody"/>
      <origin xyz="0.0 0.0 0.018" rpy="0.0 0.0 0.0"/>
      <axis xyz="1.0 0.0 0.0"/>
      <limit lower="-0.264" upper="0.264" effort="100" velocity="100"/>
   </joint>
   <joint type="fixed" name="ring_abd_offset">
      <parent link="ring_abd_jointbody"/>
      <child link="ring_um"/>
      <origin xyz="-0.0 -0.0 -0.0" rpy="0.0 0.0 0.0"/>
   </joint>
   <link name="ring_pp_virt">
      <inertial>
         <origin xyz="0.0 0.0 0.0" rpy="0.0 0.0 0.0"/>
         <mass value="0.001"/>
         <inertia ixx="4e-10" iyy="4e-10" izz="3e-10" ixy="0" ixz="0" iyz="0"/>
      </inertial>
   </link>
   <link name="root2ring_pp_virt_jointbody">
      <inertial>
         <origin xyz="0.0 0.0 0.0" rpy="0.0 0.0 0.0"/>
         <mass value="0.001"/>
         <inertia ixx="1e-09" iyy="1e-09" izz="1e-09" ixy="0" ixz="0" iyz="0"/>
      </inertial>
   </link>
   <joint type="revolute" name="root2ring_pp_virt">
      <parent link="ring_um"/>
      <child link="root2ring_pp_virt_jointbody"/>
      <origin xyz="0.002700001023199999 5.99520660493624e-19 -0.00743303472" rpy="0.0 0.0 -1.5707963267948963"/>
      <axis xyz="1.0 0.0 0.0"/>
      <limit lower="-0.157" upper="0.829" effort="100" velocity="100"/>
   </joint>
   <joint type="fixed" name="root2ring_pp_virt_offset">
      <parent link="root2ring_pp_virt_jointbody"/>
      <child link="ring_pp_virt"/>
      <origin xyz="-0.0 -0.002700001023199999 -0.0" rpy="0.0 0.0 0.0"/>
   </joint>
   <link name="ring_pp">
      <inertial>
         <origin xyz="-2.4317783143122662e-05 0.0010990088577848291 0.012970488715408169" rpy="-0.0005635947558751964 0.04346039485505382 1.5731856208599835"/>
         <mass value="0.006934011983539235"/>
         <inertia ixx="1.1618492939118344e-06" iyy="1.1338221765005137e-06" izz="1.5329642762575548e-07" ixy="0" ixz="0" iyz="0"/>
      </inertial>
      <visual name="ring_pp">
         <origin xyz="-2.4317783143122662e-05 0.0010990088577848291 0.012970488715408169" rpy="-0.0005635947558753074 0.0434603948550536 1.5731856208599835"/>
         <geometry>
            <mesh filename="package://viz/models/URDF_Simulation/converted_ring_pp.stl"/>
         </geometry>
         <material name="white"/>
      </visual>
   </link>
   <link name="root2ring_pp_jointbody">
      <inertial>
         <origin xyz="0.0 0.0 0.0" rpy="0.0 0.0 0.0"/>
         <mass value="0.001"/>
         <inertia ixx="1e-09" iyy="1e-09" izz="1e-09" ixy="0" ixz="0" iyz="0"/>
      </inertial>
   </link>
   <joint type="revolute" name="root2ring_pp">
      <parent link="ring_pp_virt"/>
      <child link="root2ring_pp_jointbody"/>
      <origin xyz="0.0 0.002500001023199999 0.018" rpy="0.0 0.0 0.0"/>
      <axis xyz="1.0 0.0 0.0"/>
      <limit lower="-0.157" upper="0.829" effort="100" velocity="100"/>
   </joint>
   <joint type="fixed" name="root2ring_pp_offset">
      <parent link="root2ring_pp_jointbody"/>
      <child link="ring_pp"/>
      <origin xyz="-0.0 -0.002500001023199999 -0.0" rpy="0.0 0.0 0.0"/>
   </joint>
   <link name="ring_pp_sens">
      <inertial>
         <origin xyz="0.0 -0.004 0.018" rpy="0.0 0.0 0.0"/>
         <mass value="0.0"/>
         <inertia ixx="0.0" iyy="0.0" izz="0.0" ixy="0" ixz="0" iyz="0"/>
      </inertial>
   </link>
   <link name="ring_pp2ring_pp_sens_fixed_jointbody">
      <inertial>
         <origin xyz="0.0 0.0 0.0" rpy="0.0 0.0 0.0"/>
         <mass value="0.001"/>
         <inertia ixx="1e-09" iyy="1e-09" izz="1e-09" ixy="0" ixz="0" iyz="0"/>
      </inertial>
   </link>
   <joint type="fixed" name="ring_pp2ring_pp_sens_fixed">
      <parent link="ring_pp"/>
      <child link="ring_pp2ring_pp_sens_fixed_jointbody"/>
      <origin xyz="0.0 -0.004 0.018" rpy="0.0 0.0 0.0"/>
   </joint>
   <joint type="fixed" name="ring_pp2ring_pp_sens_fixed_offset">
      <parent link="ring_pp2ring_pp_sens_fixed_jointbody"/>
      <child link="ring_pp_sens"/>
      <origin xyz="-0.0 -0.0 -0.0" rpy="0.0 0.0 0.0"/>
   </joint>
   <link name="ring_mp_virt">
      <inertial>
         <origin xyz="0.0 0.0 0.0" rpy="0.0 0.0 0.0"/>
         <mass value="0.001"/>
         <inertia ixx="4e-10" iyy="4e-10" izz="3e-10" ixy="0" ixz="0" iyz="0"/>
      </inertial>
   </link>
   <link name="ring_pp2mp_virt_jointbody">
      <inertial>
         <origin xyz="0.0 0.0 0.0" rpy="0.0 0.0 0.0"/>
         <mass value="0.001"/>
         <inertia ixx="1e-09" iyy="1e-09" izz="1e-09" ixy="0" ixz="0" iyz="0"/>
      </inertial>
   </link>
   <joint type="revolute" name="ring_pp2mp_virt">
      <parent link="ring_pp"/>
      <child link="ring_pp2mp_virt_jointbody"/>
      <origin xyz="0.0 0.0037000000000999996 0.03101612481" rpy="0.0 0.0 0.0"/>
      <axis xyz="1.0 0.0 0.0"/>
      <limit lower="-0.131" upper="0.96" effort="100" velocity="100"/>
   </joint>
   <joint type="fixed" name="ring_pp2mp_virt_offset">
      <parent link="ring_pp2mp_virt_jointbody"/>
      <child link="ring_mp_virt"/>
      <origin xyz="-0.0 -0.0037000000000999996 -0.0" rpy="0.0 0.0 0.0"/>
   </joint>
   <link name="ring_mp">
      <inertial>
         <origin xyz="-6.783052399634767e-05 0.002416218630794026 0.011184144137765306" rpy="0.005169070242558416 0.005498569028424383 1.568902720116945"/>
         <mass value="0.00391743874952473"/>
         <inertia ixx="3.710686435522325e-07" iyy="3.400719694509783e-07" izz="7.116706680564789e-08" ixy="0" ixz="0" iyz="0"/>
      </inertial>
      <visual name="ring_mp">
         <origin xyz="-6.783052399634767e-05 0.002416218630794026 0.011184144137765306" rpy="0.005169070242558416 0.005498569028424383 1.568902720116945"/>
         <geometry>
            <mesh filename="package://viz/models/URDF_Simulation/converted_ring_mp.stl"/>
         </geometry>
         <material name="white"/>
      </visual>
   </link>
   <link name="ring_pp2mp_jointbody">
      <inertial>
         <origin xyz="0.0 0.0 0.0" rpy="0.0 0.0 0.0"/>
         <mass value="0.001"/>
         <inertia ixx="1e-09" iyy="1e-09" izz="1e-09" ixy="0" ixz="0" iyz="0"/>
      </inertial>
   </link>
   <joint type="revolute" name="ring_pp2mp">
      <parent link="ring_mp_virt"/>
      <child link="ring_pp2mp_jointbody"/>
      <origin xyz="0.0 0.0035000000000999995 0.012" rpy="0.0 0.0 0.0"/>
      <axis xyz="1.0 0.0 0.0"/>
      <limit lower="-0.131" upper="0.96" effort="100" velocity="100"/>
   </joint>
   <joint type="fixed" name="ring_pp2mp_offset">
      <parent link="ring_pp2mp_jointbody"/>
      <child link="ring_mp"/>
      <origin xyz="-0.0 -0.0035000000000999995 -0.0" rpy="0.0 0.0 0.0"/>
   </joint>
   <link name="ring_dp_virt">
      <inertial>
         <origin xyz="0.0 0.0 0.0" rpy="0.0 0.0 0.0"/>
         <mass value="0.001"/>
         <inertia ixx="4e-10" iyy="4e-10" izz="3e-10" ixy="0" ixz="0" iyz="0"/>
      </inertial>
   </link>
   <link name="ring_mp2dp_virt_jointbody">
      <inertial>
         <origin xyz="0.0 0.0 0.0" rpy="0.0 0.0 0.0"/>
         <mass value="0.001"/>
         <inertia ixx="1e-09" iyy="1e-09" izz="1e-09" ixy="0" ixz="0" iyz="0"/>
      </inertial>
   </link>
   <joint type="revolute" name="ring_mp2dp_virt">
      <parent link="ring_mp"/>
      <child link="ring_mp2dp_virt_jointbody"/>
      <origin xyz="0.0 0.0037000000000999996 0.0235" rpy="0.0 0.0 0.0"/>
      <axis xyz="1.0 0.0 0.0"/>
      <limit lower="-0.093" upper="0.682" effort="100" velocity="100"/>
   </joint>
   <joint type="fixed" name="ring_mp2dp_virt_offset">
      <parent link="ring_mp2dp_virt_jointbody"/>
      <child link="ring_dp_virt"/>
      <origin xyz="-0.0 -0.0037000000000999996 -0.0" rpy="0.0 0.0 0.0"/>
   </joint>
   <link name="ring_dp">
      <inertial>
         <origin xyz="-6.447194909310963e-05 0.003120131877622198 0.007661905288122245" rpy="-0.001893780008492163 0.05085216250260771 1.5852087171365512"/>
         <mass value="0.0021639273972605794"/>
         <inertia ixx="1.0745931609543126e-07" iyy="9.222697287325353e-08" izz="2.9490220566203e-08" ixy="0" ixz="0" iyz="0"/>
      </inertial>
      <visual name="ring_dp">
         <origin xyz="-6.447194909310963e-05 0.003120131877622198 0.007661905288122245" rpy="-0.001893780008492163 0.05085216250260771 1.5852087171365514"/>
         <geometry>
            <mesh filename="package://viz/models/URDF_Simulation/converted_ring_dp.stl"/>
         </geometry>
         <material name="white"/>
      </visual>
   </link>
   <link name="ring_mp2dp_jointbody">
      <inertial>
         <origin xyz="0.0 0.0 0.0" rpy="0.0 0.0 0.0"/>
         <mass value="0.001"/>
         <inertia ixx="1e-09" iyy="1e-09" izz="1e-09" ixy="0" ixz="0" iyz="0"/>
      </inertial>
   </link>
   <joint type="revolute" name="ring_mp2dp">
      <parent link="ring_dp_virt"/>
      <child link="ring_mp2dp_jointbody"/>
      <origin xyz="0.0 0.0035000000000999995 0.009" rpy="0.0 0.0 0.0"/>
      <axis xyz="1.0 0.0 0.0"/>
      <limit lower="-0.093" upper="0.682" effort="100" velocity="100"/>
   </joint>
   <joint type="fixed" name="ring_mp2dp_offset">
      <parent link="ring_mp2dp_jointbody"/>
      <child link="ring_dp"/>
      <origin xyz="-0.0 -0.0035000000000999995 -0.0" rpy="0.0 0.0 0.0"/>
   </joint>
   <link name="ring_fingertip">
      <inertial>
         <origin xyz="0.0 0.0 0.01" rpy="0.0 0.0 0.0"/>
         <mass value="0.0"/>
         <inertia ixx="0.0" iyy="0.0" izz="0.0" ixy="0" ixz="0" iyz="0"/>
      </inertial>
   </link>
   <link name="ring_dp2ring_fingertip_fixed_jointbody">
      <inertial>
         <origin xyz="0.0 0.0 0.0" rpy="0.0 0.0 0.0"/>
         <mass value="0.001"/>
         <inertia ixx="1e-09" iyy="1e-09" izz="1e-09" ixy="0" ixz="0" iyz="0"/>
      </inertial>
   </link>
   <joint type="fixed" name="ring_dp2ring_fingertip_fixed">
      <parent link="ring_dp"/>
      <child link="ring_dp2ring_fingertip_fixed_jointbody"/>
      <origin xyz="0.0 0.0 0.01" rpy="0.0 0.0 0.0"/>
   </joint>
   <joint type="fixed" name="ring_dp2ring_fingertip_fixed_offset">
      <parent link="ring_dp2ring_fingertip_fixed_jointbody"/>
      <child link="ring_fingertip"/>
      <origin xyz="-0.0 -0.0 -0.0" rpy="0.0 0.0 0.0"/>
   </joint>
   <link name="pinky_um_virt">
      <inertial>
         <origin xyz="0.0 0.0 0.0" rpy="0.0 0.0 0.0"/>
         <mass value="0.001"/>
         <inertia ixx="4e-10" iyy="4e-10" izz="3e-10" ixy="0" ixz="0" iyz="0"/>
      </inertial>
   </link>
   <link name="pinky_abd_virt_jointbody">
      <inertial>
         <origin xyz="0.0 0.0 0.0" rpy="0.0 0.0 0.0"/>
         <mass value="0.001"/>
         <inertia ixx="1e-09" iyy="1e-09" izz="1e-09" ixy="0" ixz="0" iyz="0"/>
      </inertial>
   </link>
   <joint type="revolute" name="pinky_abd_virt">
      <parent link="palm"/>
      <child link="pinky_abd_virt_jointbody"/>
      <origin xyz="-0.03931395 0.0815 0.0" rpy="-1.5707963267948966 1.5707963267948966 0.0"/>
      <axis xyz="1.0 0.0 0.0"/>
      <limit lower="-0.264" upper="0.264" effort="100" velocity="100"/>
   </joint>
   <joint type="fixed" name="pinky_abd_virt_offset">
      <parent link="pinky_abd_virt_jointbody"/>
      <child link="pinky_um_virt"/>
      <origin xyz="-0.0 -0.0 -0.0" rpy="0.0 0.0 0.0"/>
   </joint>
   <link name="pinky_um">
      <inertial>
         <origin xyz="0.0003137018308382922 -4.3327904489992575e-05 -0.003588735077300156" rpy="3.113495656532974 -1.2922565745690526 -3.099483256875682"/>
         <mass value="0.001706479287008203"/>
         <inertia ixx="4.090623492327608e-08" iyy="3.326893495119032e-08" izz="2.9518955384678924e-08" ixy="0" ixz="0" iyz="0"/>
      </inertial>
      <visual name="pinky_um">
         <origin xyz="0.0003137018308382922 -4.3327904489992575e-05 -0.003588735077300156" rpy="3.1134956565329746 -1.2922565745690526 -3.0994832568756823"/>
         <geometry>
            <mesh filename="package://viz/models/URDF_Simulation/converted_pinky_um.stl"/>
         </geometry>
         <material name="white"/>
      </visual>
   </link>
   <link name="pinky_abd_jointbody">
      <inertial>
         <origin xyz="0.0 0.0 0.0" rpy="0.0 0.0 0.0"/>
         <mass value="0.001"/>
         <inertia ixx="1e-09" iyy="1e-09" izz="1e-09" ixy="0" ixz="0" iyz="0"/>
      </inertial>
   </link>
   <joint type="revolute" name="pinky_abd">
      <parent link="pinky_um_virt"/>
      <child link="pinky_abd_jointbody"/>
      <origin xyz="0.0 0.0 0.018" rpy="0.0 0.0 0.0"/>
      <axis xyz="1.0 0.0 0.0"/>
      <limit lower="-0.264" upper="0.264" effort="100" velocity="100"/>
   </joint>
   <joint type="fixed" name="pinky_abd_offset">
      <parent link="pinky_abd_jointbody"/>
      <child link="pinky_um"/>
      <origin xyz="-0.0 -0.0 -0.0" rpy="0.0 0.0 0.0"/>
   </joint>
   <link name="pinky_pp_virt">
      <inertial>
         <origin xyz="0.0 0.0 0.0" rpy="0.0 0.0 0.0"/>
         <mass value="0.001"/>
         <inertia ixx="4e-10" iyy="4e-10" izz="3e-10" ixy="0" ixz="0" iyz="0"/>
      </inertial>
   </link>
   <link name="root2pinky_pp_virt_jointbody">
      <inertial>
         <origin xyz="0.0 0.0 0.0" rpy="0.0 0.0 0.0"/>
         <mass value="0.001"/>
         <inertia ixx="1e-09" iyy="1e-09" izz="1e-09" ixy="0" ixz="0" iyz="0"/>
      </inertial>
   </link>
   <joint type="revolute" name="root2pinky_pp_virt">
      <parent link="pinky_um"/>
      <child link="root2pinky_pp_virt_jointbody"/>
      <origin xyz="0.00270000102 5.9952065978308155e-19 -0.00743303472" rpy="0.0 0.0 -1.5707963267948963"/>
      <axis xyz="1.0 0.0 0.0"/>
      <limit lower="-0.157" upper="0.829" effort="100" velocity="100"/>
   </joint>
   <joint type="fixed" name="root2pinky_pp_virt_offset">
      <parent link="root2pinky_pp_virt_jointbody"/>
      <child link="pinky_pp_virt"/>
      <origin xyz="-0.0 -0.00270000102 -0.0" rpy="0.0 0.0 0.0"/>
   </joint>
   <link name="pinky_pp">
      <inertial>
         <origin xyz="-2.109461568381571e-05 0.000996163274490867 0.011153640747459392" rpy="-0.0005633739671052629 0.04664075180888805 1.5728100242694358"/>
         <mass value="0.006411007113106174"/>
         <inertia ixx="8.839796343393693e-07" iyy="8.605669091164771e-07" izz="1.4433356510402823e-07" ixy="0" ixz="0" iyz="0"/>
      </inertial>
      <visual name="pinky_pp">
         <origin xyz="-2.109461568381571e-05 0.000996163274490867 0.011153640747459392" rpy="-0.0005633739671052629 0.04664075180888805 1.5728100242694358"/>
         <geometry>
            <mesh filename="package://viz/models/URDF_Simulation/converted_pinky_pp.stl"/>
         </geometry>
         <material name="white"/>
      </visual>
   </link>
   <link name="root2pinky_pp_jointbody">
      <inertial>
         <origin xyz="0.0 0.0 0.0" rpy="0.0 0.0 0.0"/>
         <mass value="0.001"/>
         <inertia ixx="1e-09" iyy="1e-09" izz="1e-09" ixy="0" ixz="0" iyz="0"/>
      </inertial>
   </link>
   <joint type="revolute" name="root2pinky_pp">
      <parent link="pinky_pp_virt"/>
      <child link="root2pinky_pp_jointbody"/>
      <origin xyz="0.0 0.00250000102 0.018" rpy="0.0 0.0 0.0"/>
      <axis xyz="1.0 0.0 0.0"/>
      <limit lower="-0.157" upper="0.829" effort="100" velocity="100"/>
   </joint>
   <joint type="fixed" name="root2pinky_pp_offset">
      <parent link="root2pinky_pp_jointbody"/>
      <child link="pinky_pp"/>
      <origin xyz="-0.0 -0.00250000102 -0.0" rpy="0.0 0.0 0.0"/>
   </joint>
   <link name="pinky_pp_sens">
      <inertial>
         <origin xyz="0.0 -0.004 0.015" rpy="0.0 0.0 0.0"/>
         <mass value="0.0"/>
         <inertia ixx="0.0" iyy="0.0" izz="0.0" ixy="0" ixz="0" iyz="0"/>
      </inertial>
   </link>
   <link name="pinky_pp2pinky_pp_sens_fixed_jointbody">
      <inertial>
         <origin xyz="0.0 0.0 0.0" rpy="0.0 0.0 0.0"/>
         <mass value="0.001"/>
         <inertia ixx="1e-09" iyy="1e-09" izz="1e-09" ixy="0" ixz="0" iyz="0"/>
      </inertial>
   </link>
   <joint type="fixed" name="pinky_pp2pinky_pp_sens_fixed">
      <parent link="pinky_pp"/>
      <child link="pinky_pp2pinky_pp_sens_fixed_jointbody"/>
      <origin xyz="0.0 -0.004 0.015" rpy="0.0 0.0 0.0"/>
   </joint>
   <joint type="fixed" name="pinky_pp2pinky_pp_sens_fixed_offset">
      <parent link="pinky_pp2pinky_pp_sens_fixed_jointbody"/>
      <child link="pinky_pp_sens"/>
      <origin xyz="-0.0 -0.0 -0.0" rpy="0.0 0.0 0.0"/>
   </joint>
   <link name="pinky_mp_virt">
      <inertial>
         <origin xyz="0.0 0.0 0.0" rpy="0.0 0.0 0.0"/>
         <mass value="0.001"/>
         <inertia ixx="4e-10" iyy="4e-10" izz="3e-10" ixy="0" ixz="0" iyz="0"/>
      </inertial>
   </link>
   <link name="pinky_pp2mp_virt_jointbody">
      <inertial>
         <origin xyz="0.0 0.0 0.0" rpy="0.0 0.0 0.0"/>
         <mass value="0.001"/>
         <inertia ixx="1e-09" iyy="1e-09" izz="1e-09" ixy="0" ixz="0" iyz="0"/>
      </inertial>
   </link>
   <joint type="revolute" name="pinky_pp2mp_virt">
      <parent link="pinky_pp"/>
      <child link="pinky_pp2mp_virt_jointbody"/>
      <origin xyz="0.0 0.00370000102 0.02701851213434598" rpy="0.0 0.0 0.0"/>
      <axis xyz="1.0 0.0 0.0"/>
      <limit lower="-0.131" upper="0.96" effort="100" velocity="100"/>
   </joint>
   <joint type="fixed" name="pinky_pp2mp_virt_offset">
      <parent link="pinky_pp2mp_virt_jointbody"/>
      <child link="pinky_mp_virt"/>
      <origin xyz="-0.0 -0.00370000102 -0.0" rpy="0.0 0.0 0.0"/>
   </joint>
   <link name="pinky_mp">
      <inertial>
         <origin xyz="-5.650322932876373e-05 0.0022775589837975138 0.009212500242364308" rpy="0.004881996418440782 0.005874182493044833 1.5691948119058772"/>
         <mass value="0.0035266787657145257"/>
         <inertia ixx="2.591198468813237e-07" iyy="2.327720232400065e-07" izz="6.529283109208708e-08" ixy="0" ixz="0" iyz="0"/>
      </inertial>
      <visual name="pinky_mp">
         <origin xyz="-5.650322932876373e-05 0.0022775589837975138 0.009212500242364308" rpy="0.004881996418440782 0.005874182493044833 1.569194811905877"/>
         <geometry>
            <mesh filename="package://viz/models/URDF_Simulation/converted_pinky_mp.stl"/>
         </geometry>
         <material name="white"/>
      </visual>
   </link>
   <link name="pinky_pp2mp_jointbody">
      <inertial>
         <origin xyz="0.0 0.0 0.0" rpy="0.0 0.0 0.0"/>
         <mass value="0.001"/>
         <inertia ixx="1e-09" iyy="1e-09" izz="1e-09" ixy="0" ixz="0" iyz="0"/>
      </inertial>
   </link>
   <joint type="revolute" name="pinky_pp2mp">
      <parent link="pinky_mp_virt"/>
      <child link="pinky_pp2mp_jointbody"/>
      <origin xyz="0.0 0.00350000102 0.011999999999999999" rpy="0.0 0.0 0.0"/>
      <axis xyz="1.0 0.0 0.0"/>
      <limit lower="-0.131" upper="0.96" effort="100" velocity="100"/>
   </joint>
   <joint type="fixed" name="pinky_pp2mp_offset">
      <parent link="pinky_pp2mp_jointbody"/>
      <child link="pinky_mp"/>
      <origin xyz="-0.0 -0.00350000102 -0.0" rpy="0.0 0.0 0.0"/>
   </joint>
   <link name="pinky_dp_virt">
      <inertial>
         <origin xyz="0.0 0.0 0.0" rpy="0.0 0.0 0.0"/>
         <mass value="0.001"/>
         <inertia ixx="4e-10" iyy="4e-10" izz="3e-10" ixy="0" ixz="0" iyz="0"/>
      </inertial>
   </link>
   <link name="pinky_mp2dp_virt_jointbody">
      <inertial>
         <origin xyz="0.0 0.0 0.0" rpy="0.0 0.0 0.0"/>
         <mass value="0.001"/>
         <inertia ixx="1e-09" iyy="1e-09" izz="1e-09" ixy="0" ixz="0" iyz="0"/>
      </inertial>
   </link>
   <joint type="revolute" name="pinky_mp2dp_virt">
      <parent link="pinky_mp"/>
      <child link="pinky_mp2dp_virt_jointbody"/>
      <origin xyz="0.0 0.00370000102 0.0195" rpy="0.0 0.0 0.0"/>
      <axis xyz="1.0 0.0 0.0"/>
      <limit lower="-0.093" upper="0.682" effort="100" velocity="100"/>
   </joint>
   <joint type="fixed" name="pinky_mp2dp_virt_offset">
      <parent link="pinky_mp2dp_virt_jointbody"/>
      <child link="pinky_dp_virt"/>
      <origin xyz="-0.0 -0.00370000102 -0.0" rpy="0.0 0.0 0.0"/>
   </joint>
   <link name="pinky_dp">
      <inertial>
         <origin xyz="-7.350958926732876e-06 0.0032238257911780463 0.007640724715587549" rpy="0.0038160751754089395 0.053495156395318766 1.57056799955947"/>
         <mass value="0.002076623300267396"/>
         <inertia ixx="1.0632503961582051e-07" iyy="9.094510215249103e-08" izz="2.870836456430631e-08" ixy="0" ixz="0" iyz="0"/>
      </inertial>
      <visual name="pinky_dp">
         <origin xyz="-7.350958926732876e-06 0.0032238257911780463 0.007640724715587549" rpy="0.0038160751754088285 0.053495156395318766 1.57056799955947"/>
         <geometry>
            <mesh filename="package://viz/models/URDF_Simulation/converted_pinky_dp.stl"/>
         </geometry>
         <material name="white"/>
      </visual>
   </link>
   <link name="pinky_mp2dp_jointbody">
      <inertial>
         <origin xyz="0.0 0.0 0.0" rpy="0.0 0.0 0.0"/>
         <mass value="0.001"/>
         <inertia ixx="1e-09" iyy="1e-09" izz="1e-09" ixy="0" ixz="0" iyz="0"/>
      </inertial>
   </link>
   <joint type="revolute" name="pinky_mp2dp">
      <parent link="pinky_dp_virt"/>
      <child link="pinky_mp2dp_jointbody"/>
      <origin xyz="0.0 0.00350000102 0.008999999999999998" rpy="0.0 0.0 0.0"/>
      <axis xyz="1.0 0.0 0.0"/>
      <limit lower="-0.093" upper="0.682" effort="100" velocity="100"/>
   </joint>
   <joint type="fixed" name="pinky_mp2dp_offset">
      <parent link="pinky_mp2dp_jointbody"/>
      <child link="pinky_dp"/>
      <origin xyz="-0.0 -0.00350000102 -0.0" rpy="0.0 0.0 0.0"/>
   </joint>
   <link name="pinky_fingertip">
      <inertial>
         <origin xyz="0.0 0.0 0.01" rpy="0.0 0.0 0.0"/>
         <mass value="0.0"/>
         <inertia ixx="0.0" iyy="0.0" izz="0.0" ixy="0" ixz="0" iyz="0"/>
      </inertial>
   </link>
   <link name="pinky_dp2pinky_fingertip_fixed_jointbody">
      <inertial>
         <origin xyz="0.0 0.0 0.0" rpy="0.0 0.0 0.0"/>
         <mass value="0.001"/>
         <inertia ixx="1e-09" iyy="1e-09" izz="1e-09" ixy="0" ixz="0" iyz="0"/>
      </inertial>
   </link>
   <joint type="fixed" name="pinky_dp2pinky_fingertip_fixed">
      <parent link="pinky_dp"/>
      <child link="pinky_dp2pinky_fingertip_fixed_jointbody"/>
      <origin xyz="0.0 0.0 0.01" rpy="0.0 0.0 0.0"/>
   </joint>
   <joint type="fixed" name="pinky_dp2pinky_fingertip_fixed_offset">
      <parent link="pinky_dp2pinky_fingertip_fixed_jointbody"/>
      <child link="pinky_fingertip"/>
      <origin xyz="-0.0 -0.0 -0.0" rpy="0.0 0.0 0.0"/>
   </joint>
   <material name="white">
      <color rgba="1 1 1 1"/>
   </material>
</robot>
